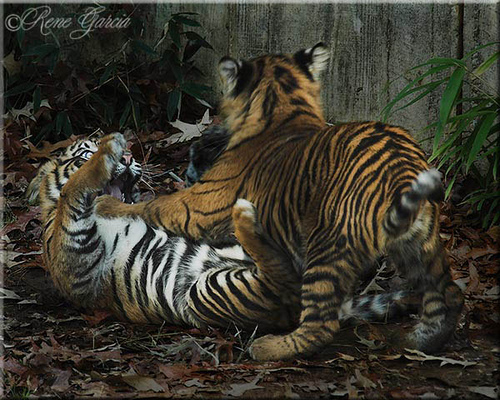Tigre: (203, 63, 451, 306)
